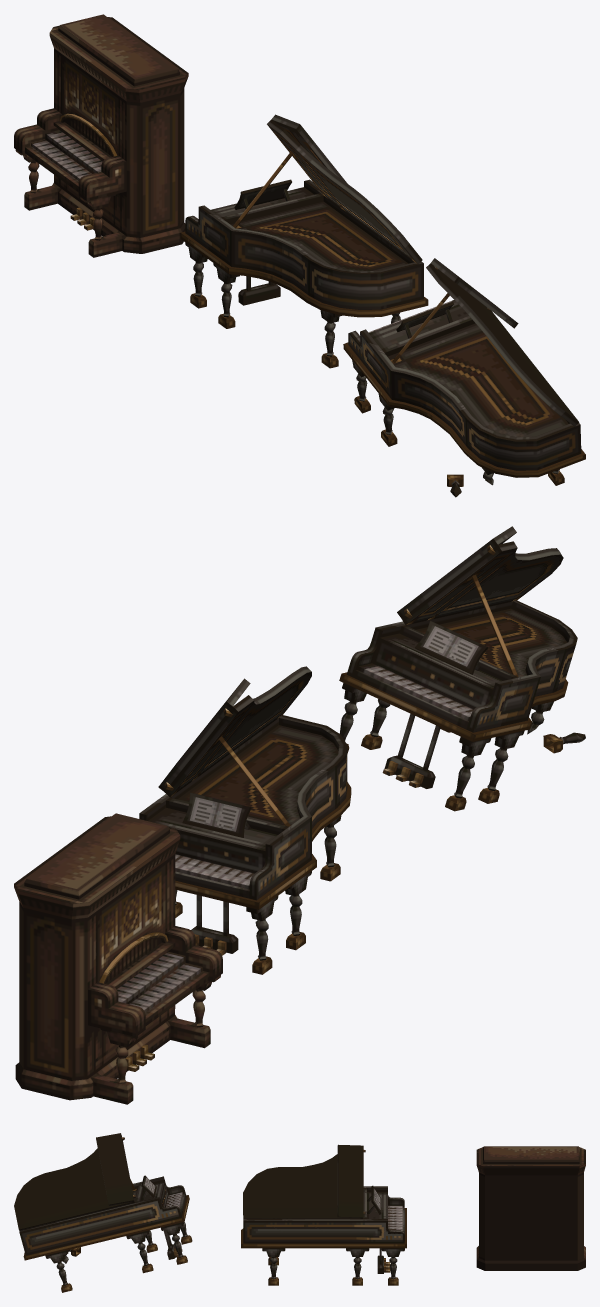
The model's file is EnvObjMD_Piano_A.FBX.
The picture shows the model from 3 angles, top to bottom: view 1: azimuth 30°, elevation 25°; view 2: azimuth 150°, elevation 25°; view 3: azimuth 270°, elevation 25°; orthographic projection. The views are drawn at different scales.
Visible parts, largest first — view 1: EnvObjMD_Piano_A, EnvObjMD_Piano_B_Broken, EnvObjMD_Piano_B; view 2: EnvObjMD_Piano_A, EnvObjMD_Piano_B_Broken, EnvObjMD_Piano_B; view 3: EnvObjMD_Piano_B_Broken, EnvObjMD_Piano_B, EnvObjMD_Piano_A.
Boxes of the visible parts, x1,y1,x2,y2 form: EnvObjMD_Piano_A: (14,14,188,257); EnvObjMD_Piano_B_Broken: (343,258,585,497); EnvObjMD_Piano_B: (180,114,428,368); EnvObjMD_Piano_A: (14,813,222,1104); EnvObjMD_Piano_B_Broken: (339,526,585,811); EnvObjMD_Piano_B: (139,666,351,974); EnvObjMD_Piano_B_Broken: (14,1133,192,1292); EnvObjMD_Piano_B: (241,1144,406,1285); EnvObjMD_Piano_A: (476,1146,585,1270).
Size of the model in its own units: 270 by 355 by 1363.
2 materials, 2 textured.
